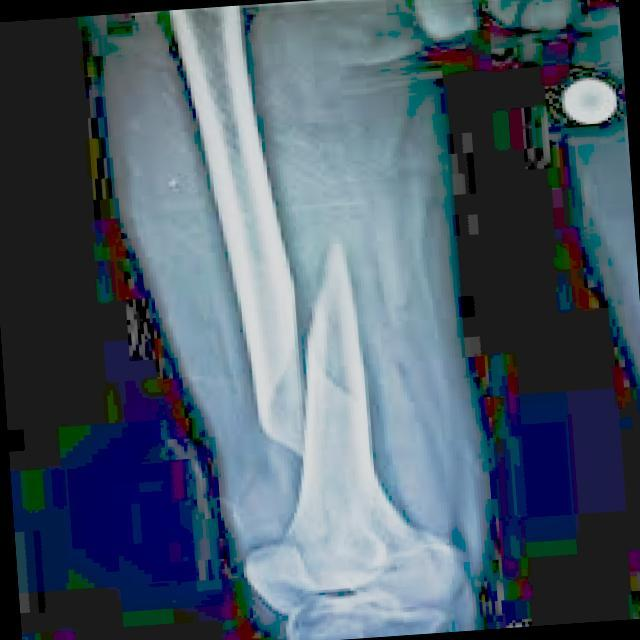Comminuted Fracture: (220, 231, 366, 451)
